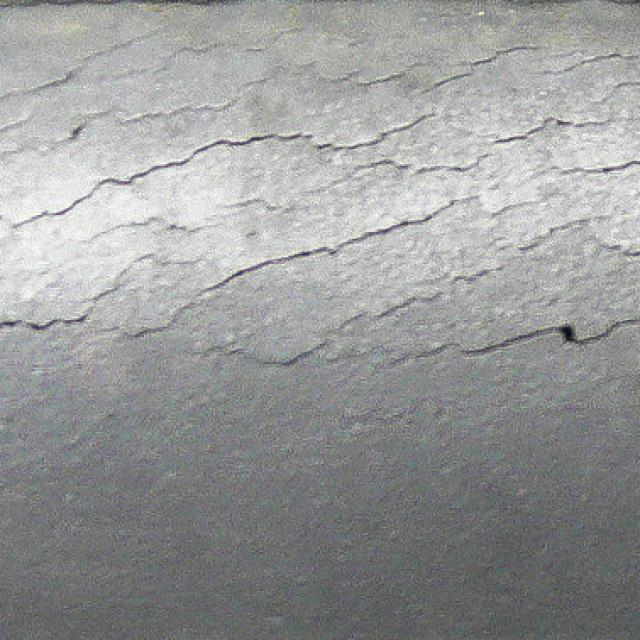Cracks: (0, 0, 638, 396)
